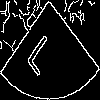L: (25, 25, 62, 78)
